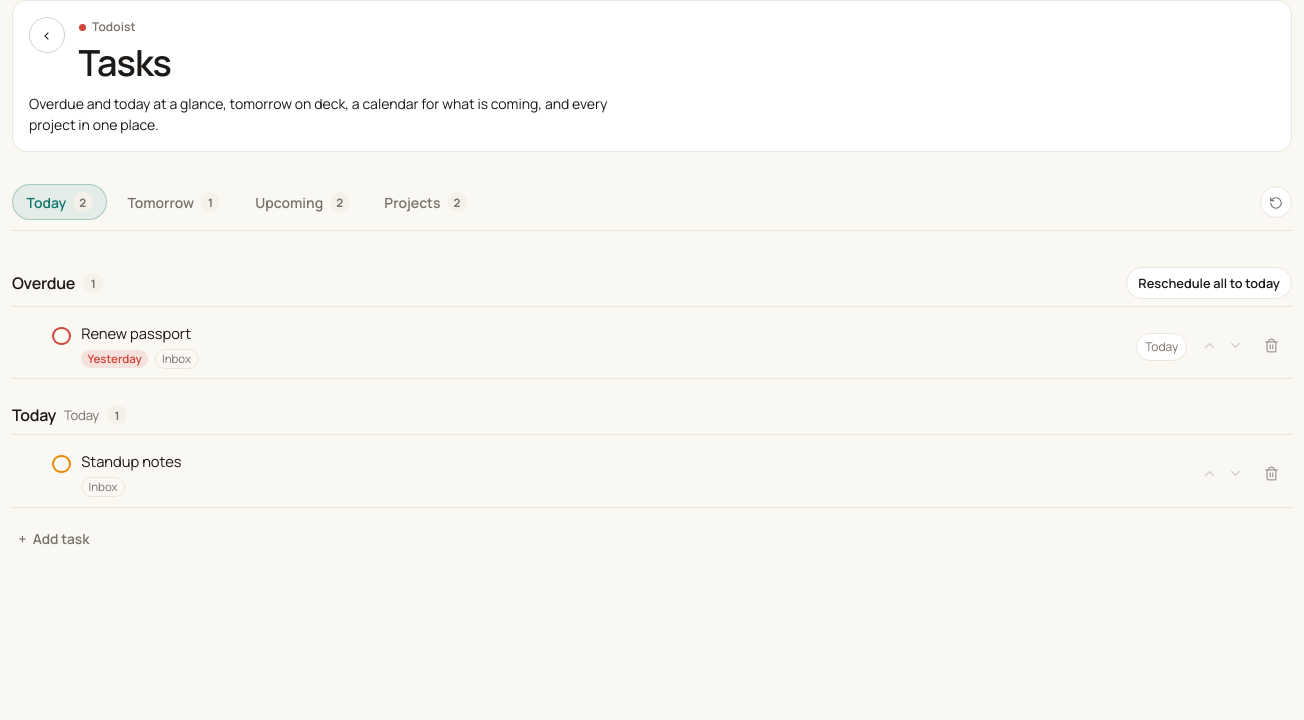
Test: TasksPage › completes a task optimistically
Expected: the text "Standup notes" is shown, [81,451,182,471]
Click the button named "Complete Standup notes" at (62, 464), box [52,455,71,473]
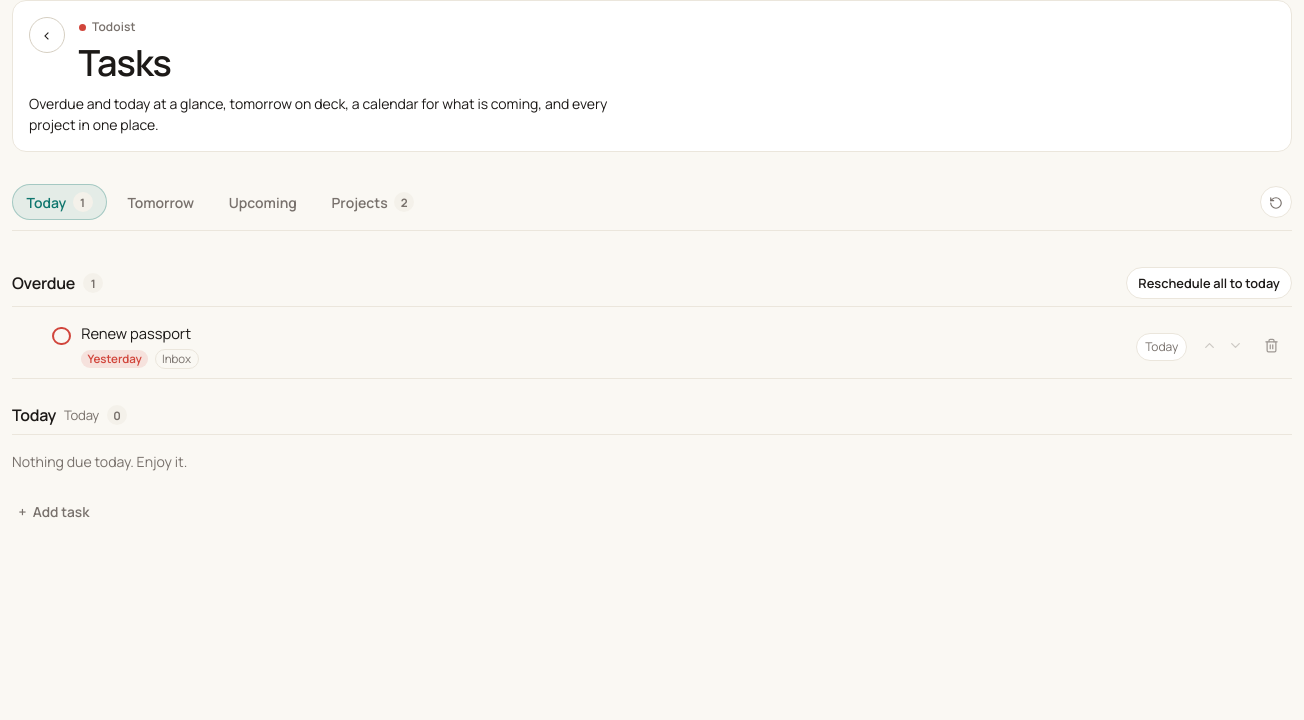
Now the button "Standup notes" is gone
